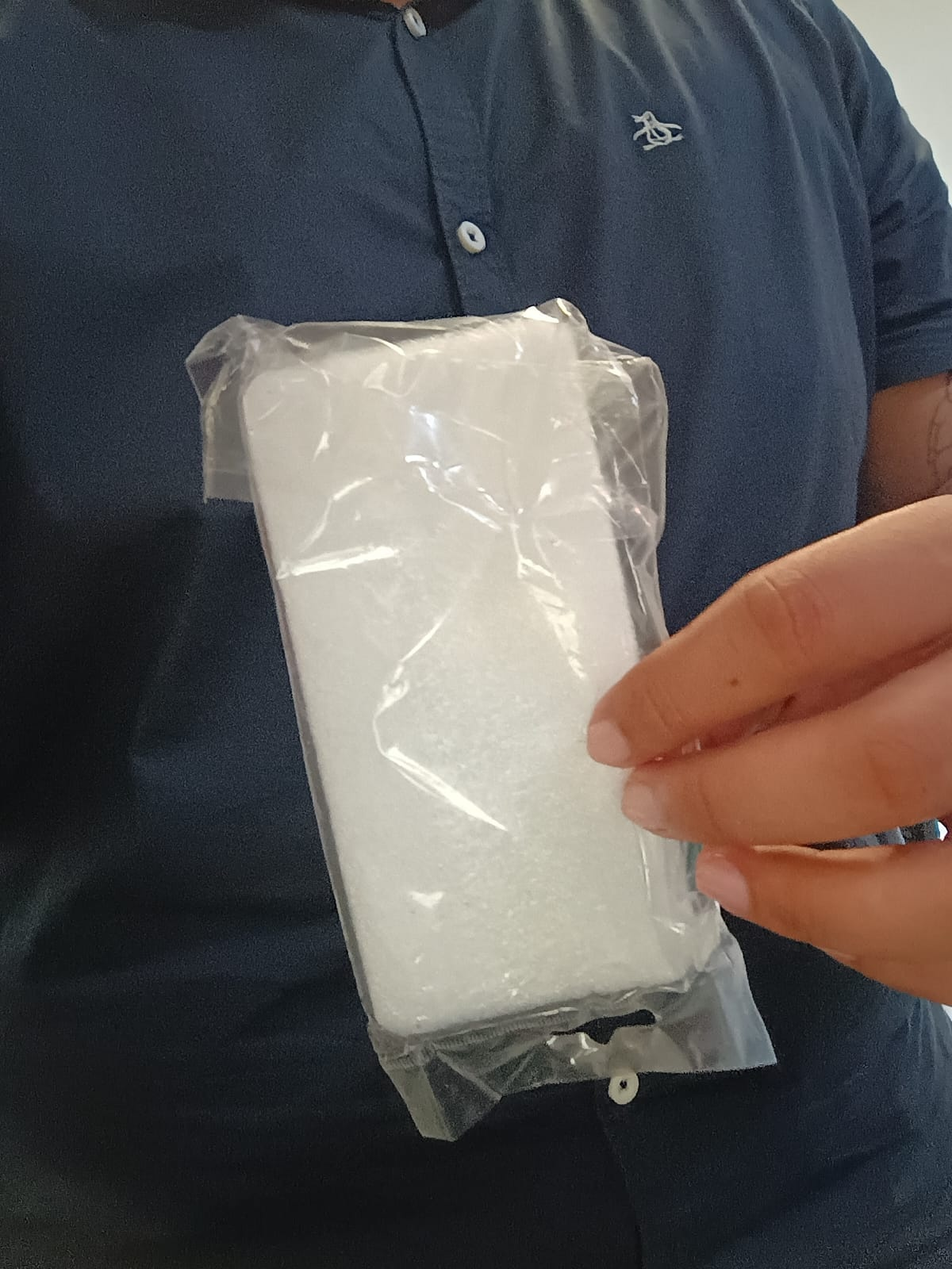Ordinario: (188, 301, 781, 1145)
